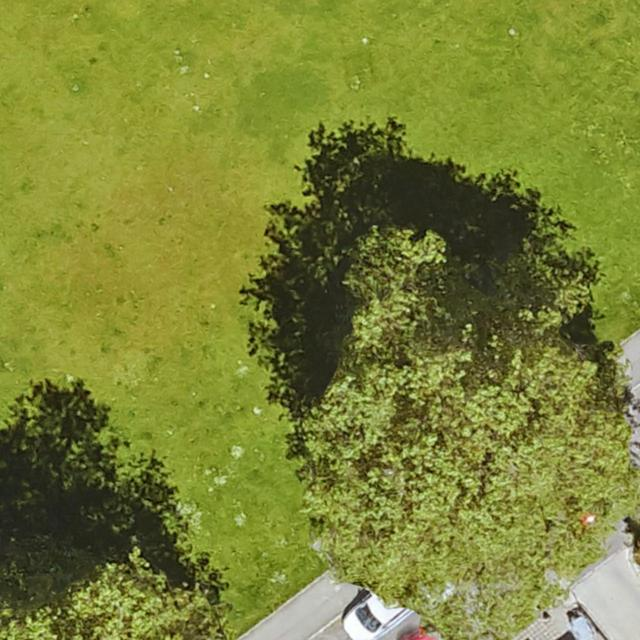tree: (293, 245, 616, 600), (62, 557, 226, 640)
